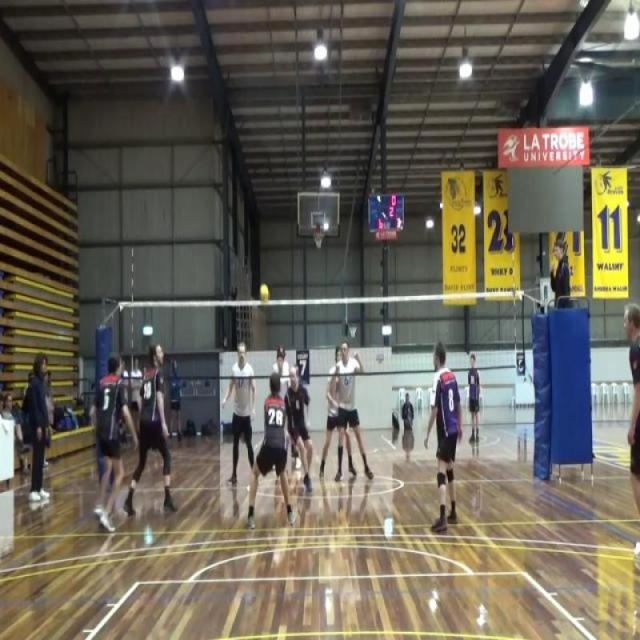volleyball: (258, 284, 270, 304)
